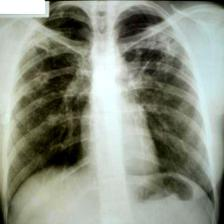tuberculosis: (6, 1, 217, 224)
